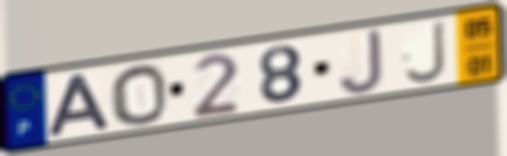2: (188, 50, 242, 121)
8: (257, 44, 306, 105)
A: (45, 71, 114, 140)
J: (337, 26, 387, 97), (401, 17, 449, 86)
O: (107, 62, 170, 127)
